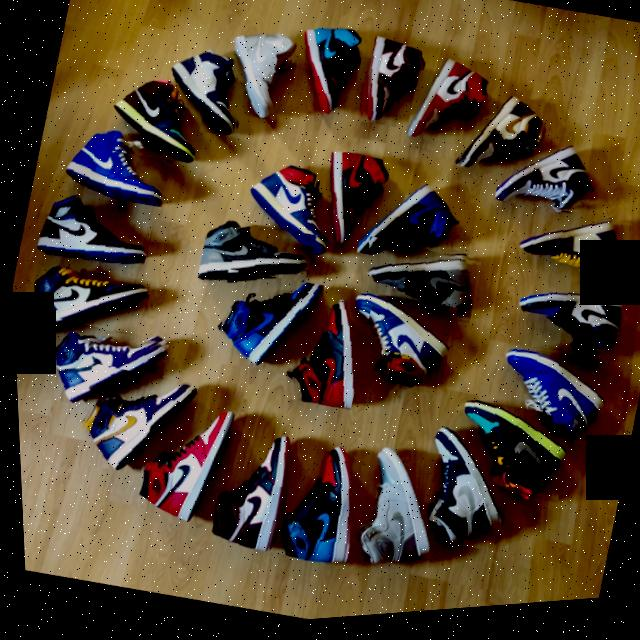shoe: (64, 357, 199, 490), (438, 398, 573, 521), (403, 426, 519, 565), (123, 394, 236, 535), (338, 443, 450, 585), (481, 345, 615, 462), (33, 312, 169, 426), (330, 289, 457, 411), (203, 266, 324, 388), (266, 439, 370, 577), (19, 255, 151, 358), (351, 235, 482, 337), (198, 424, 296, 560), (350, 173, 466, 282), (232, 155, 343, 266), (274, 292, 371, 419), (191, 214, 316, 312), (30, 182, 156, 279), (509, 203, 634, 300), (503, 284, 626, 379), (57, 118, 177, 215), (98, 68, 209, 172), (448, 91, 552, 195), (489, 136, 603, 230), (304, 149, 394, 261), (400, 55, 495, 161), (158, 42, 254, 145), (283, 22, 369, 128), (217, 21, 300, 128), (350, 36, 431, 140)
